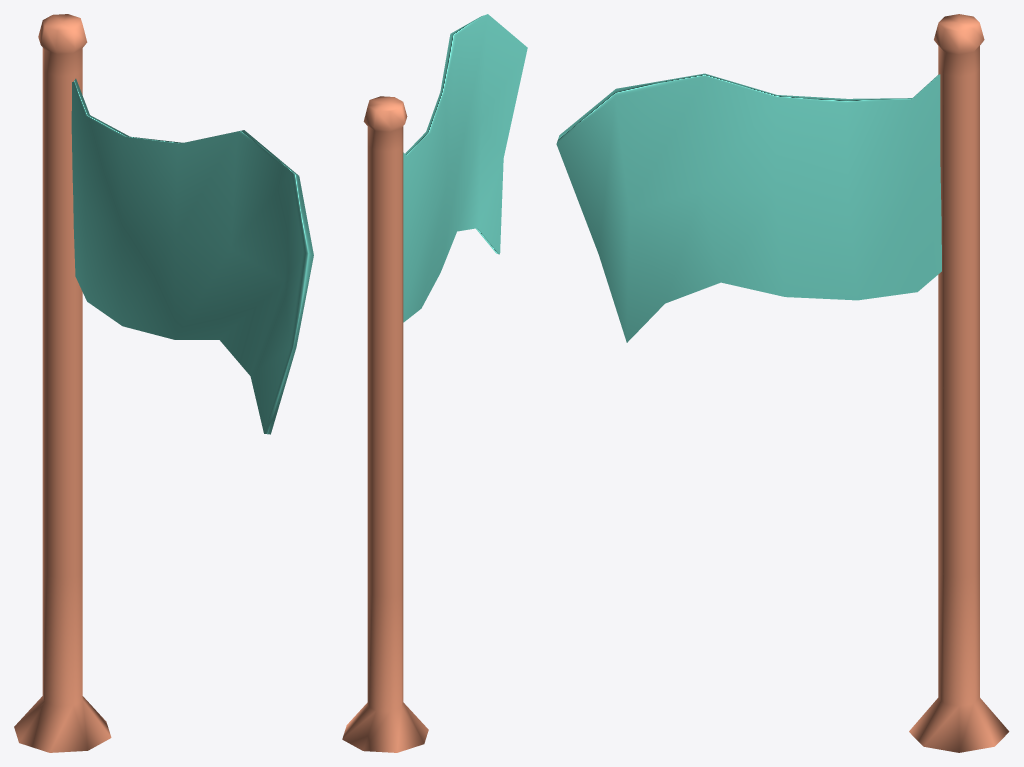
The model's file is flag.fbx.
3 views of the same model, side by side, from view 1: azimuth 30°, elevation 25°; view 2: azimuth 150°, elevation 25°; view 3: azimuth 270°, elevation 25° (orthographic). The views are drawn at different scales.
Visible parts, largest first — view 1: PM3D_Cylinder3D_2, PM3D_Cylinder3D_1; view 2: PM3D_Cylinder3D_1, PM3D_Cylinder3D_2; view 3: PM3D_Cylinder3D_2, PM3D_Cylinder3D_1.
Part boxes in pixels (bbox=[...]): PM3D_Cylinder3D_2: bbox=[71, 78, 313, 434]; PM3D_Cylinder3D_1: bbox=[14, 14, 111, 752]; PM3D_Cylinder3D_1: bbox=[342, 96, 428, 752]; PM3D_Cylinder3D_2: bbox=[403, 14, 527, 322]; PM3D_Cylinder3D_2: bbox=[556, 73, 941, 342]; PM3D_Cylinder3D_1: bbox=[909, 14, 1009, 752].
Bounding box in the file's own units: 0.1116 × 0.6908 × 0.4001.
